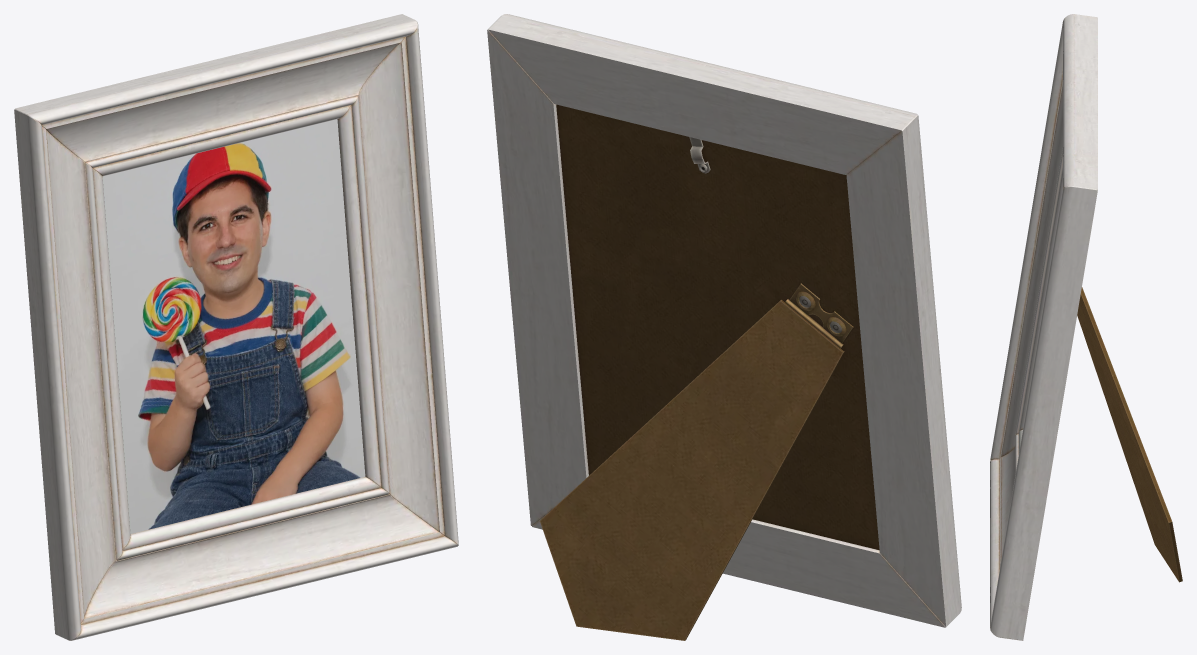
Rendered from frame.glb.
3 renders of one model, left to right at view 1: azimuth 30°, elevation 25°; view 2: azimuth 150°, elevation 25°; view 3: azimuth 270°, elevation 25°, orthographic. The views are drawn at different scales.
Parts seen in each view (by area): view 1: standing_picture_frame_02, standing_picture_frame_02_standing_picture_frame_02_artwork_; view 2: standing_picture_frame_02; view 3: standing_picture_frame_02.
Part boxes in pixels (x1,y1,x2,y2): standing_picture_frame_02: (14, 14, 458, 640); standing_picture_frame_02_standing_picture_frame_02_artwork_: (102, 119, 365, 533); standing_picture_frame_02: (487, 14, 961, 640); standing_picture_frame_02: (990, 14, 1182, 640).
Size of the model in its own units: 0.2169 by 0.2664 by 0.1023.
Materials: 2 (2 with a texture image).
